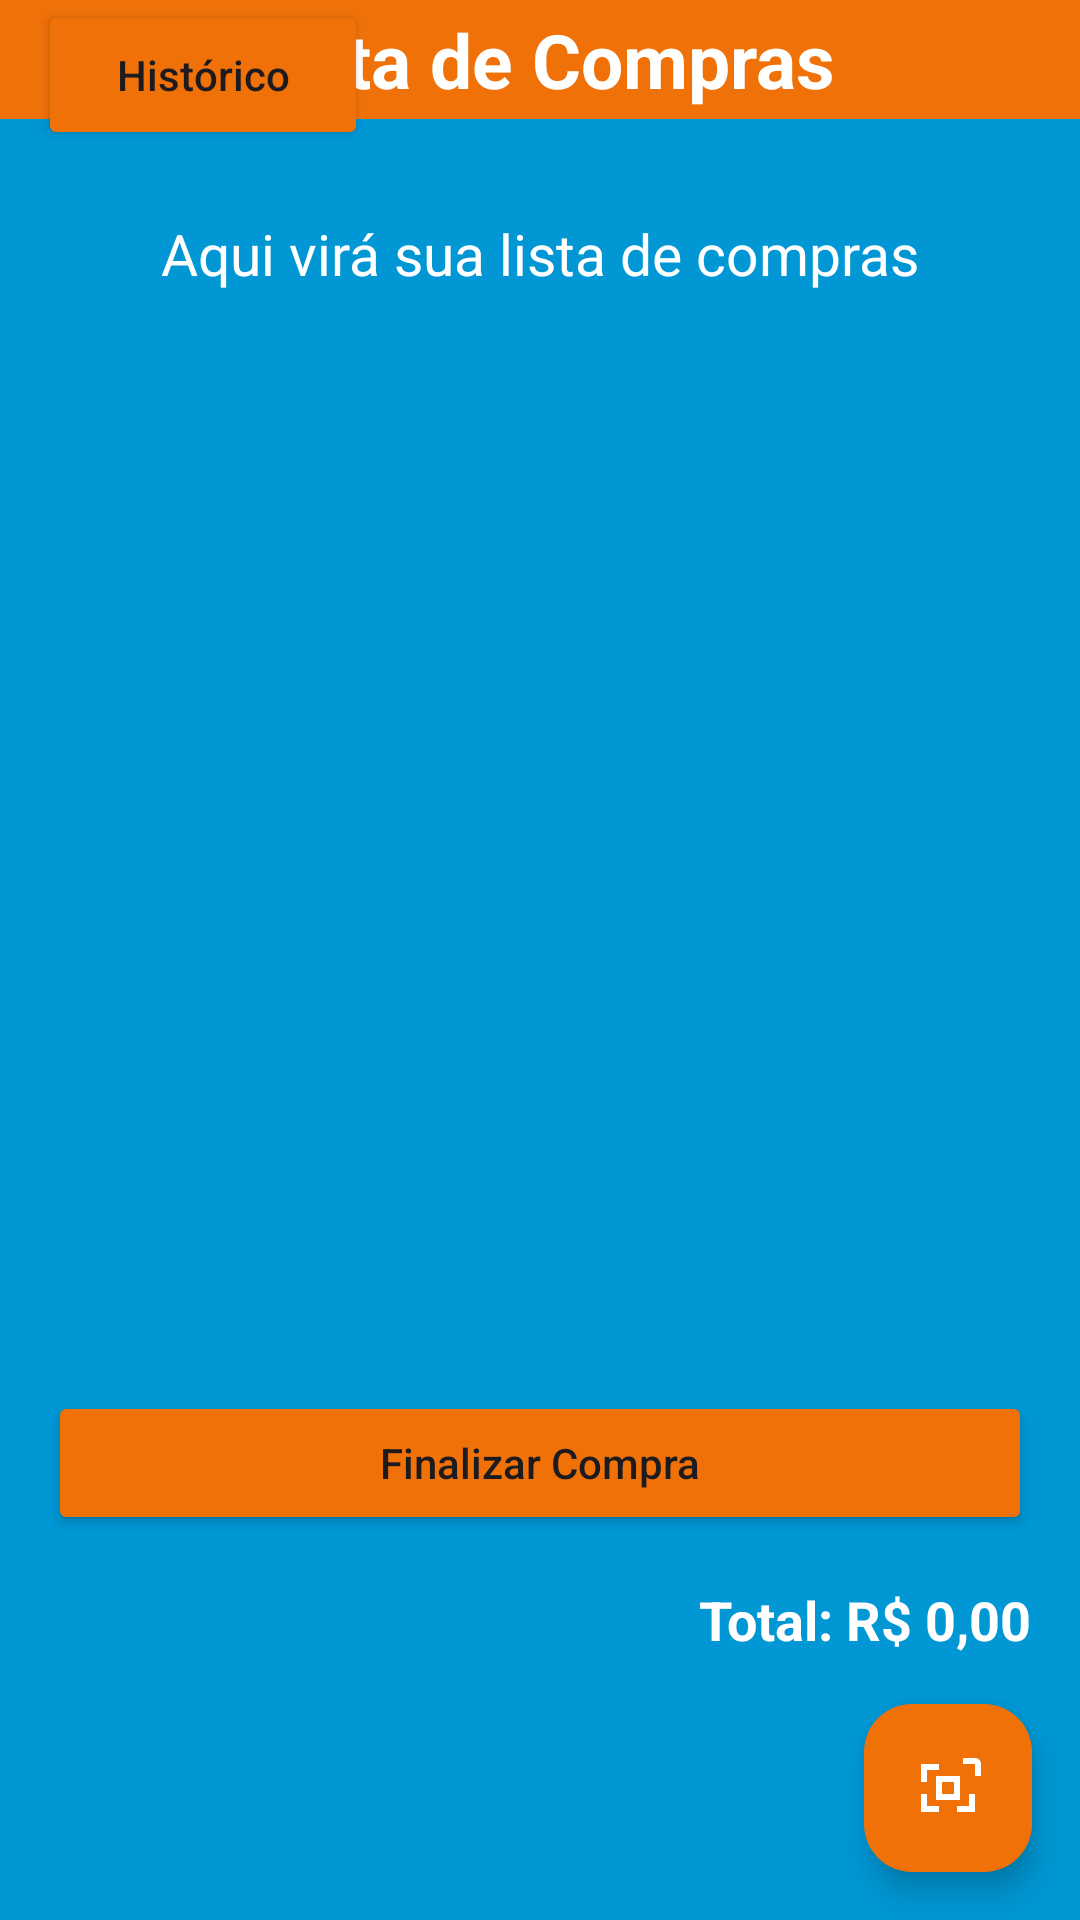

Locate icon controls on the screen. Image size 1080w x 1920h, boxes as (x1, y1, x2, y2).
qr code scanner: (864, 1704, 1032, 1872)
